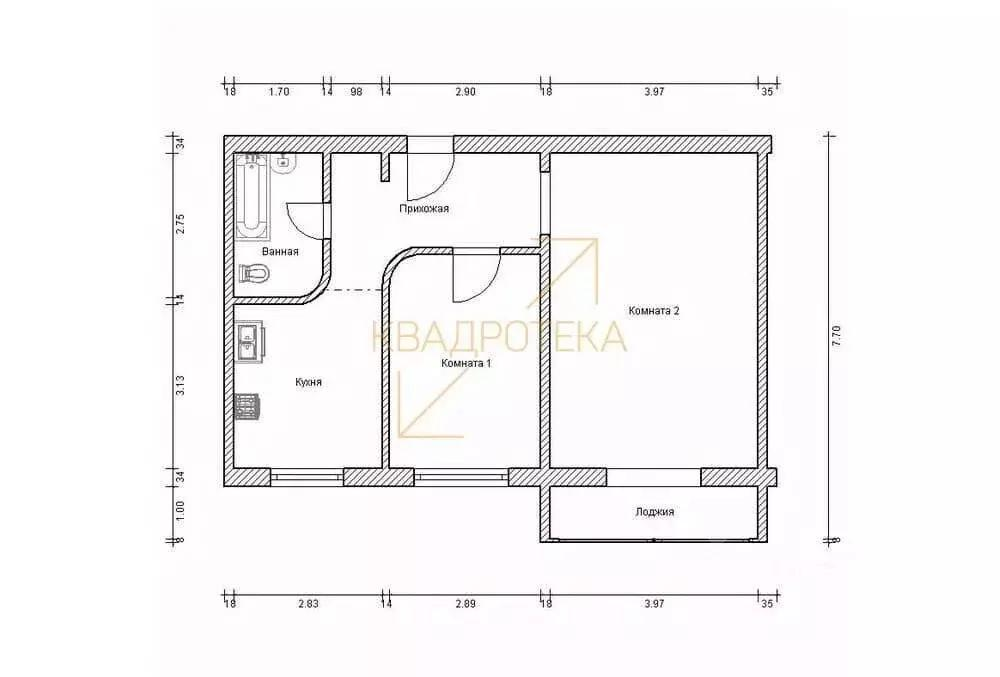balcony: (549, 485, 758, 538)
bathroom: (233, 152, 324, 297)
bedroom: (388, 254, 542, 468)
hallway: (325, 153, 541, 290)
kitchen: (234, 290, 384, 468)
living_room: (548, 152, 760, 470)
